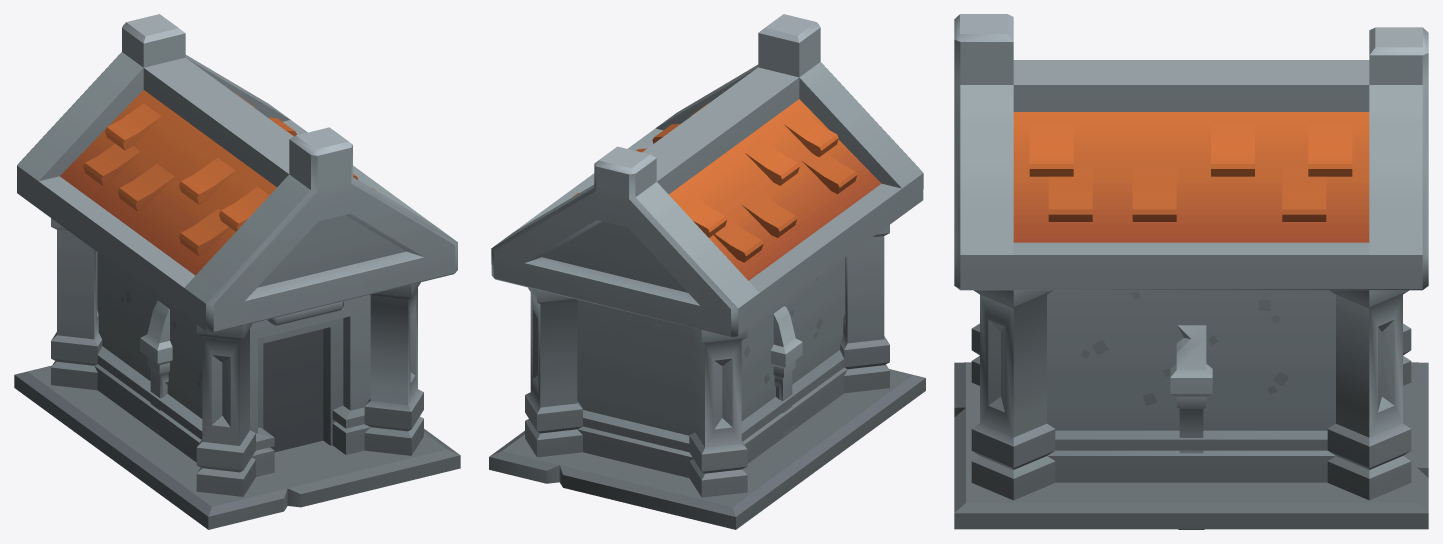
File: halloween.glb
3 renders of one model, left to right at view 1: azimuth 30°, elevation 25°; view 2: azimuth 150°, elevation 25°; view 3: azimuth 270°, elevation 25°, orthographic. The views are drawn at different scales.
Parts seen in each view (by area): view 1: crypt, arch; view 2: crypt, arch; view 3: crypt, arch.
Part boxes in pixels (x1,y1,x2,y2): crypt: (14,14,460,529); arch: (140,300,172,435); crypt: (489,14,925,529); arch: (771,306,802,436); crypt: (954,14,1428,529); arch: (1170,325,1212,453).
Bounding box in the file's own units: 6 × 9.31 × 8.
2 materials, 2 textured.
